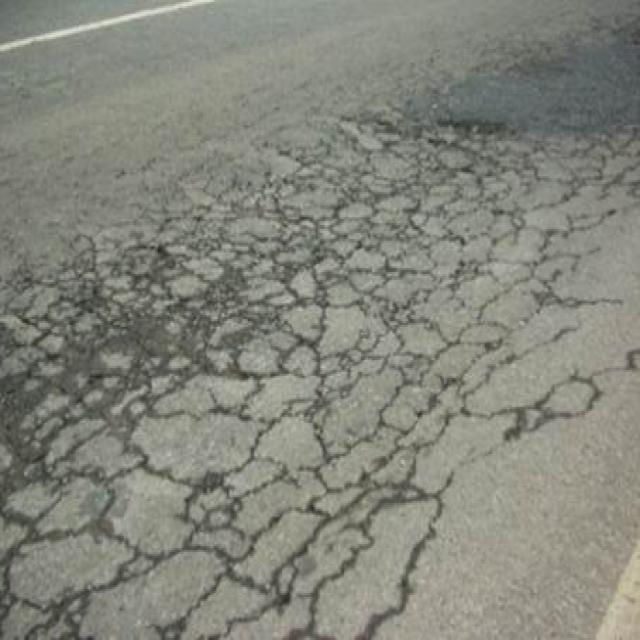Drain Hole: (26, 130, 640, 631)
